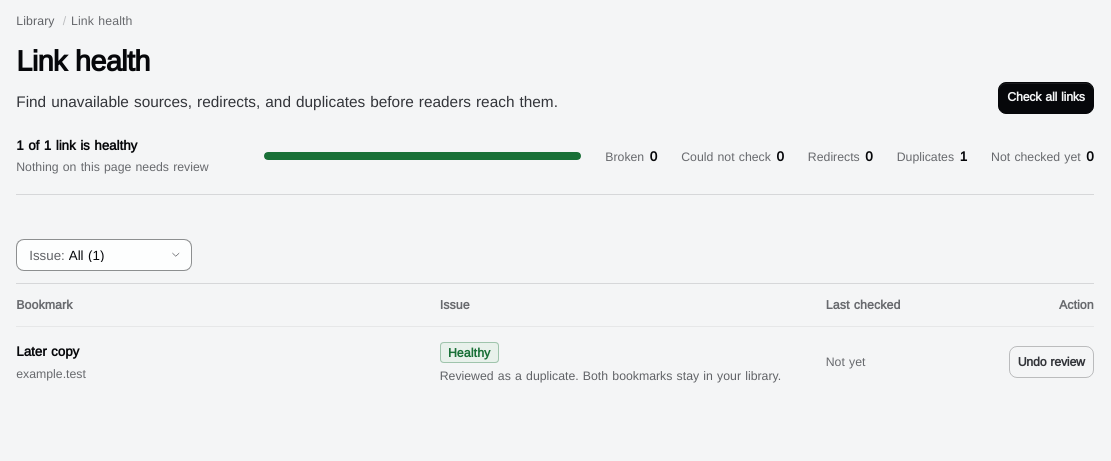
it: LibraryHealth duplicate review and cannot-probe display › reloads and asks to undo again on a stale ETag
Click the button "Undo review" at (1051, 362), box x1=1009 y1=346 x2=1094 y2=378
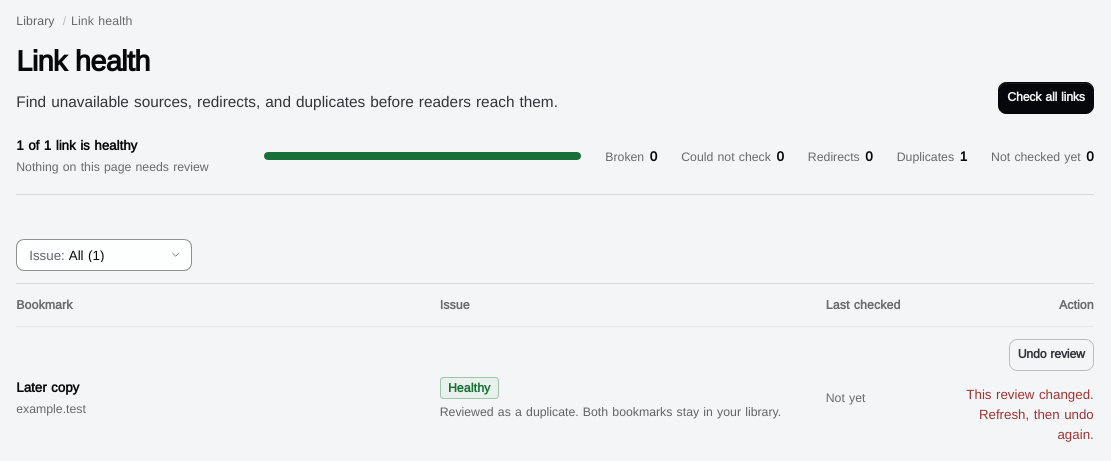
Expected: the text "This review changed. Refresh, then undo again." is shown, x1=950 y1=384 x2=1094 y2=444
